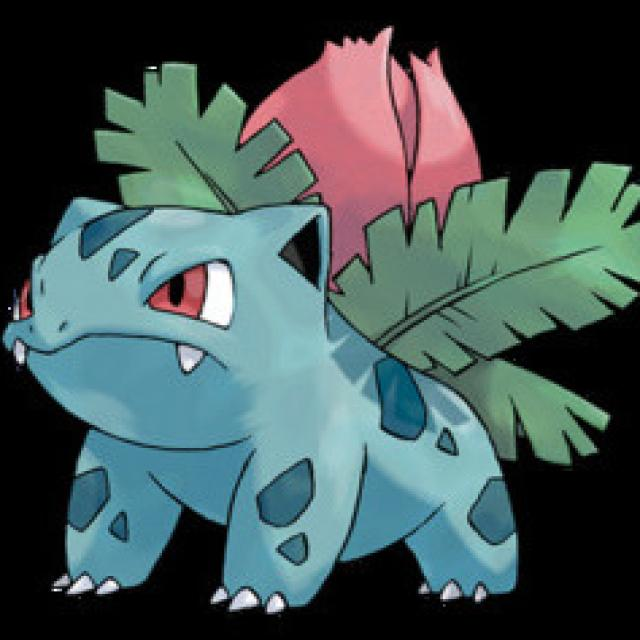Ivysaur: (0, 22, 512, 600)
